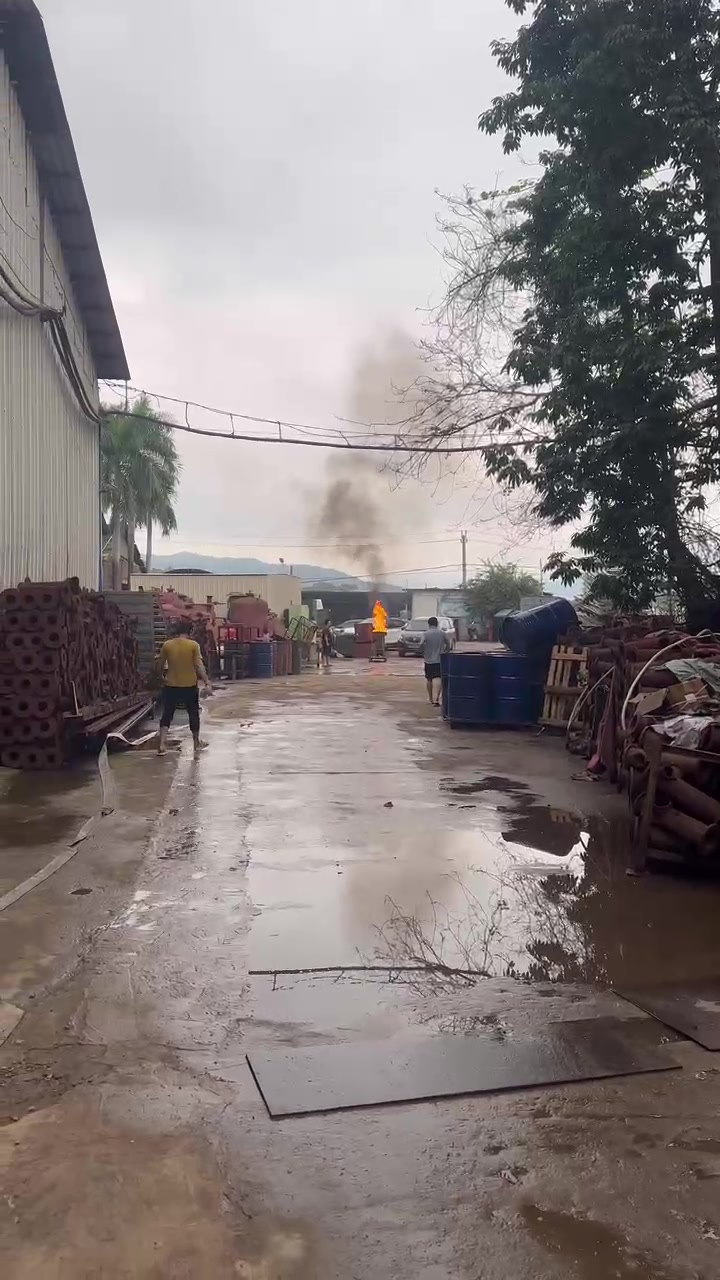fire: (372, 600, 387, 631)
